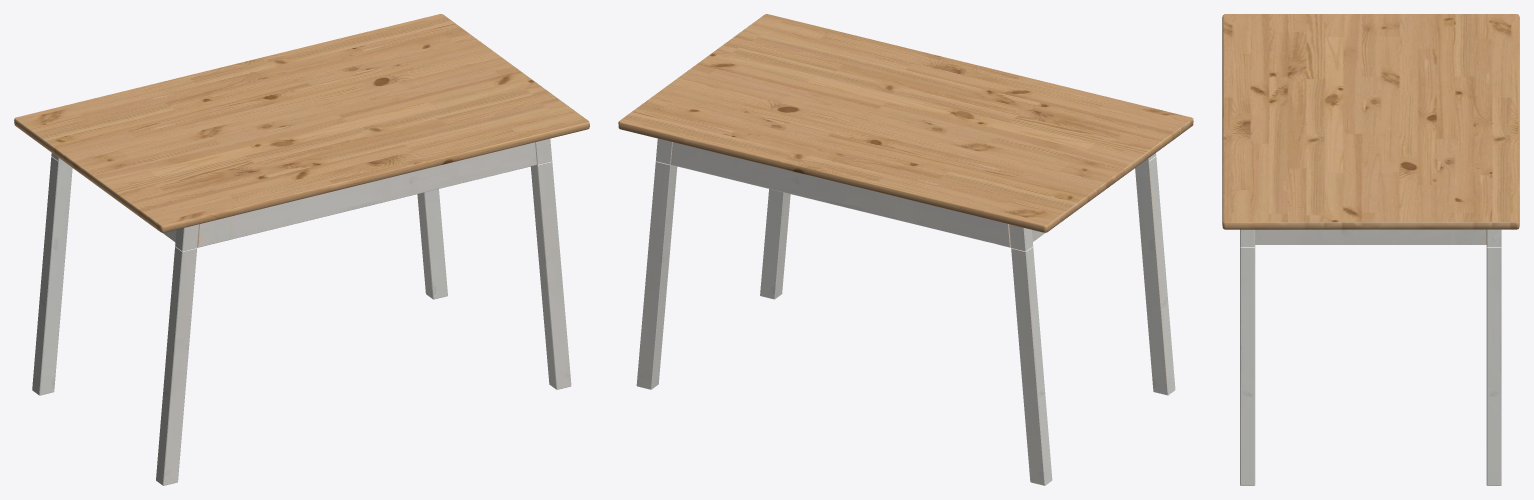
3 renders of one model, left to right at view 1: azimuth 30°, elevation 25°; view 2: azimuth 150°, elevation 25°; view 3: azimuth 270°, elevation 25°, orthographic.
Visible parts, largest first — view 1: model; view 2: model; view 3: model.
Part boxes in pixels (x1,y1,x2,y2): model: (14, 14, 589, 485); model: (618, 14, 1193, 485); model: (1222, 14, 1519, 485).
Bounding box in the file's own units: 1.25 × 0.75 × 0.7503.
Materials: 1 (1 with a texture image).
